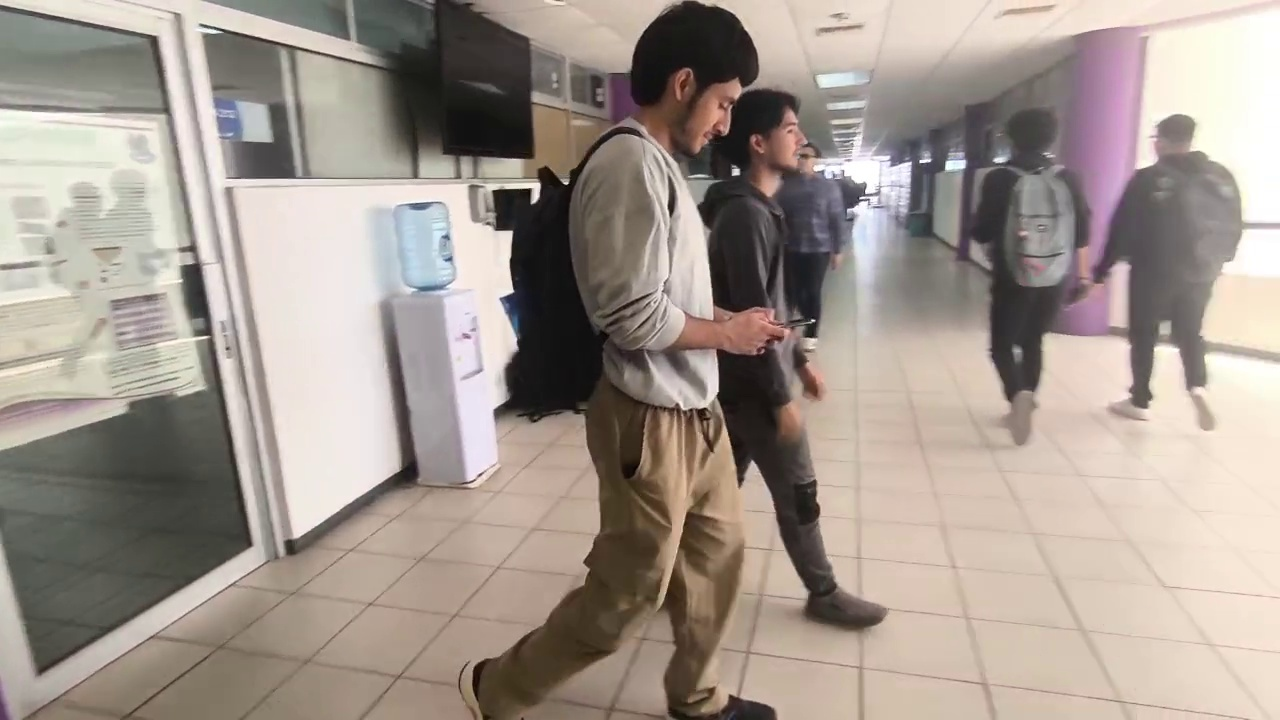mixto2: (775, 309, 821, 333)
